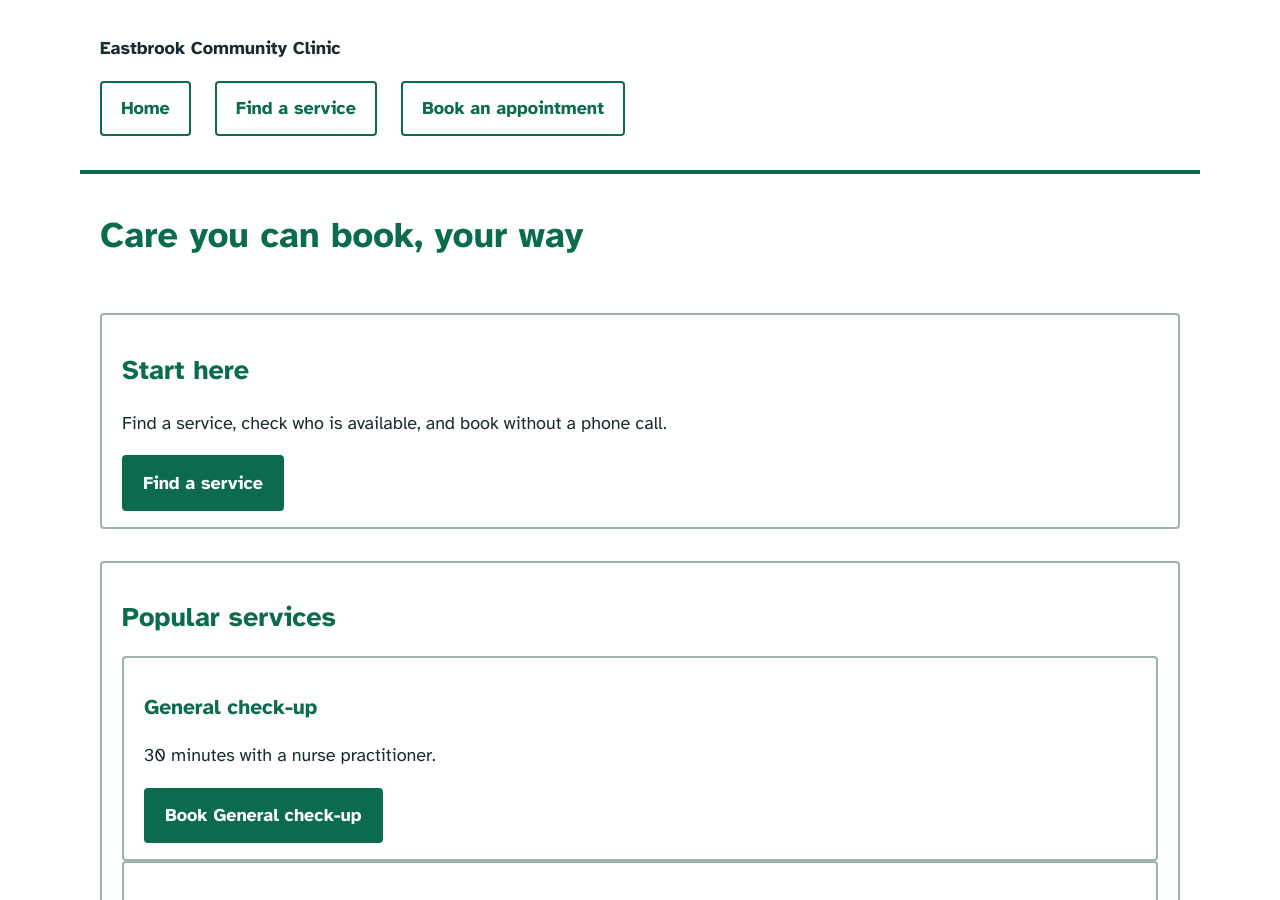
directory › no matches shows a helpful message and a count of 0
Click the button "Find a service" below "Eastbrook Community Clinic": (296, 108) left=215, top=81, right=377, bottom=136
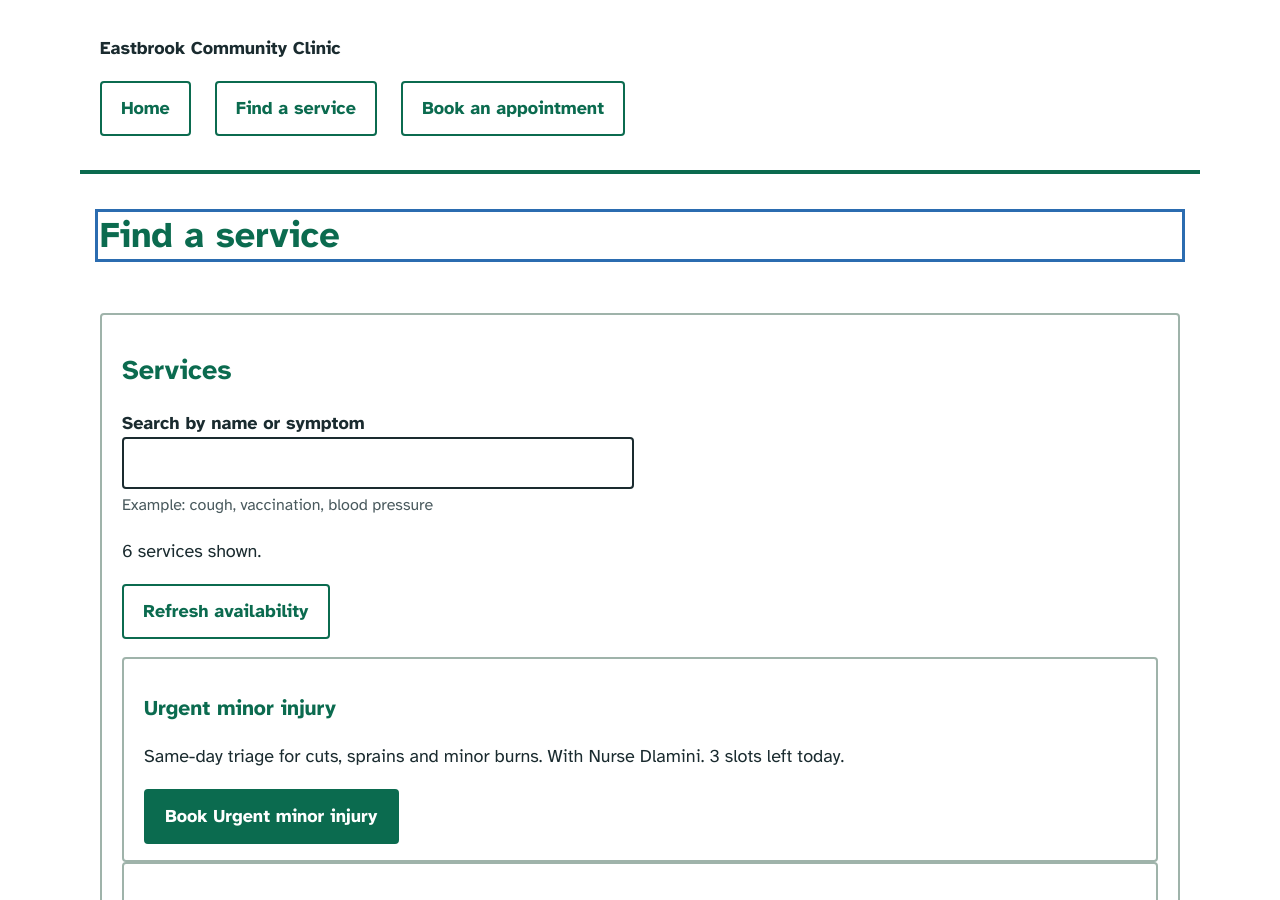
In the search field labelled "Search by name or symptom": (378, 463) left=122, top=437, right=634, bottom=489, type "zzz"
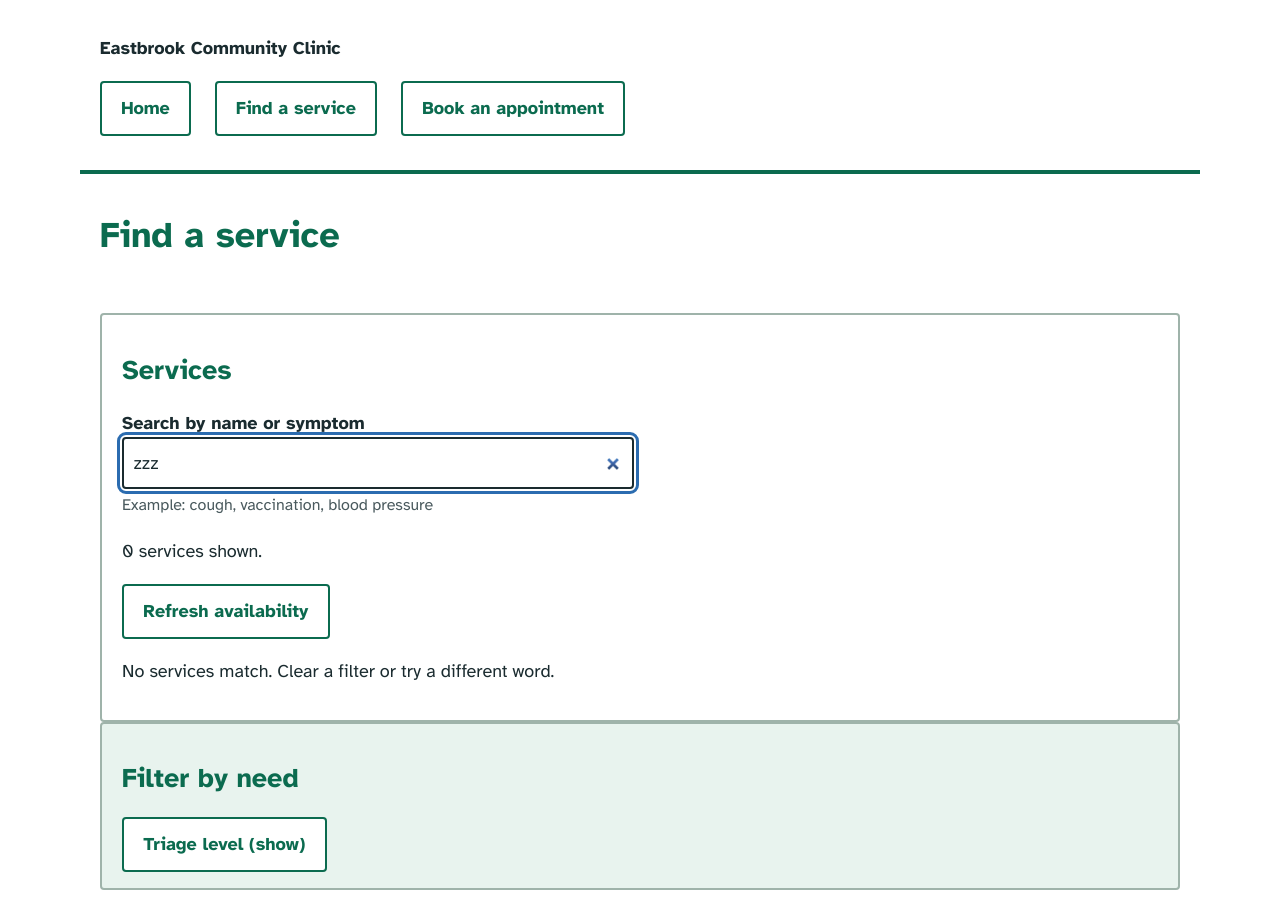
Check: the message shows "0 services shown", box left=122, top=540, right=262, bottom=562
Check: the text "No services match. Clear a filter or try a different word." is shown, box left=122, top=660, right=554, bottom=682
